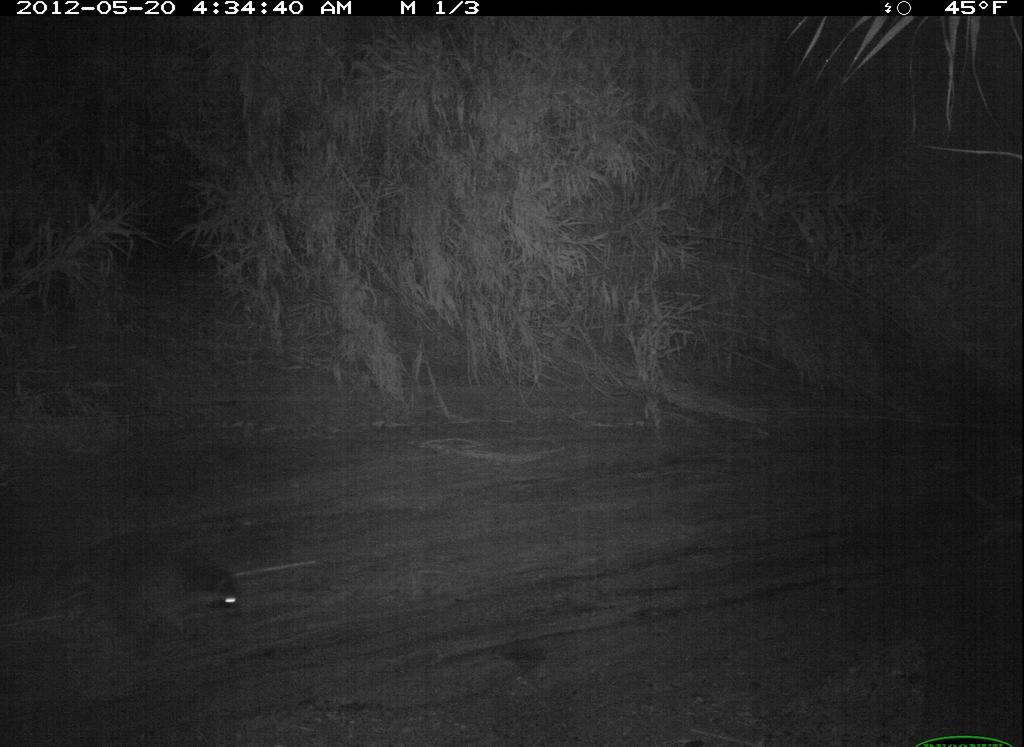raccoon: (7, 519, 250, 674)
